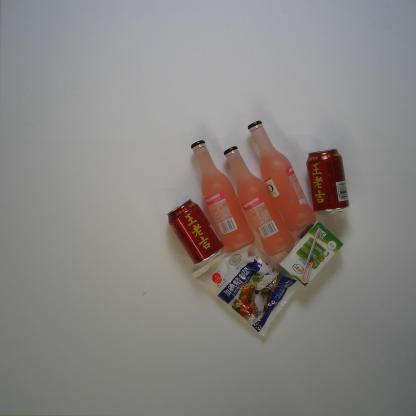Alcohol: (224, 145, 295, 257), (247, 120, 317, 232), (191, 140, 256, 252)
Drink: (167, 199, 224, 267), (306, 148, 350, 215)
Milk: (279, 221, 344, 288)
Seasoner: (190, 242, 301, 336)
